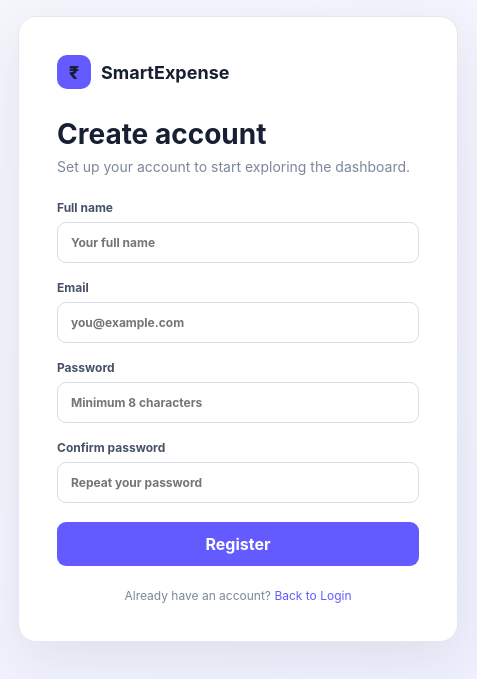
Test case: authentication screens › registers successfully and displays the sign-in confirmation
The image size is (477, 679).
Type "Test User" into the field labelled "Full name". click: (238, 242)
box: [57,222,419,263]
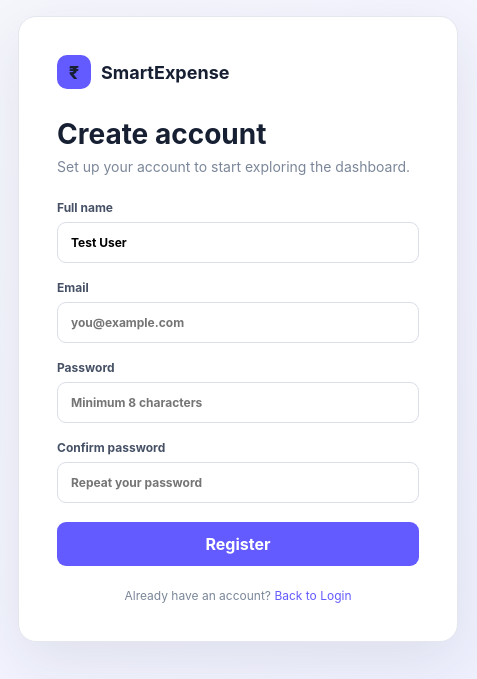
Type "test@example.com" into the field labelled "Email". click: (238, 322)
box: [57,302,419,343]
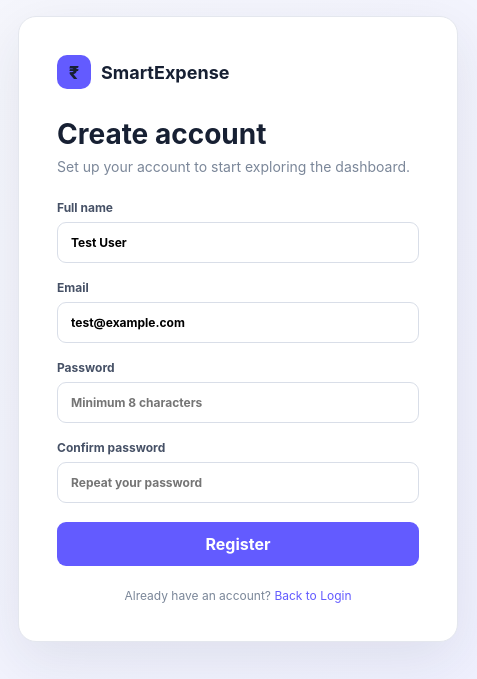
Type "correct horse battery" into the password field labelled "Password". click: (238, 402)
box: [57,382,419,423]
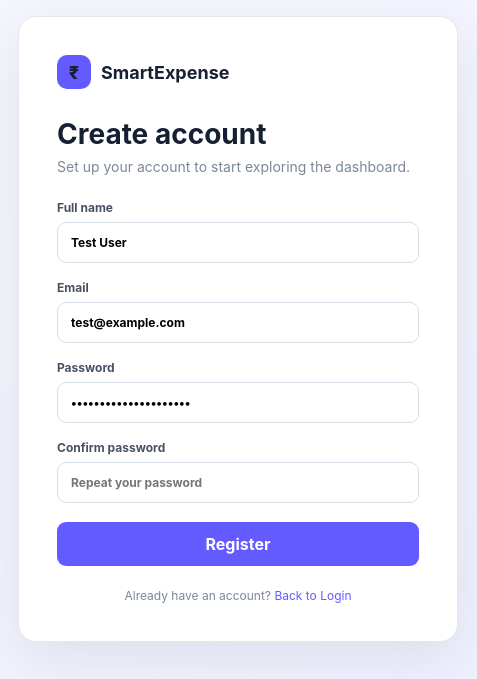
Type "correct horse battery" into the password field labelled "Confirm password". click: (238, 482)
box: [57,462,419,503]
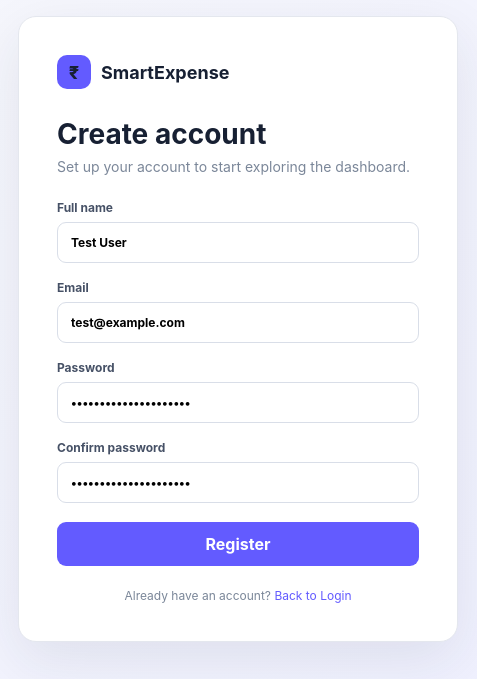
Click the button "Register". click: (238, 544)
box: [57,522,419,566]
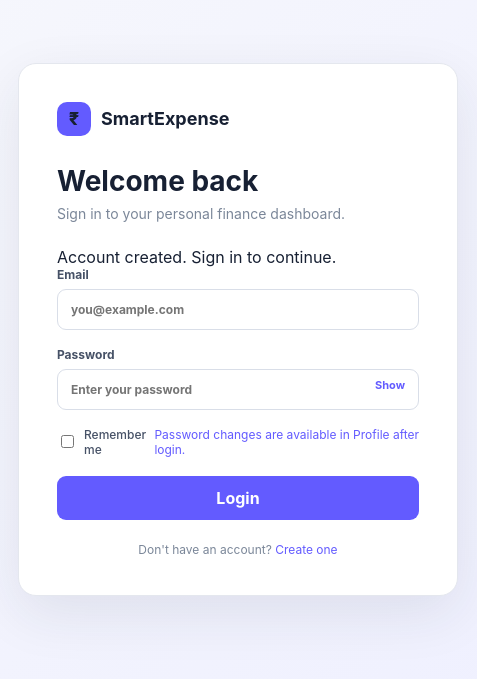
Check: the message reads "Account created. Sign in to continue.", box [57,246,336,266]
